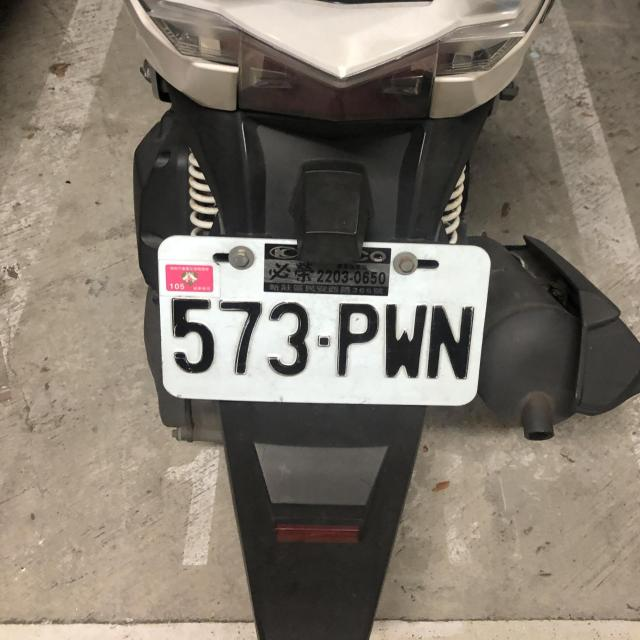W: (146, 234, 497, 410)
